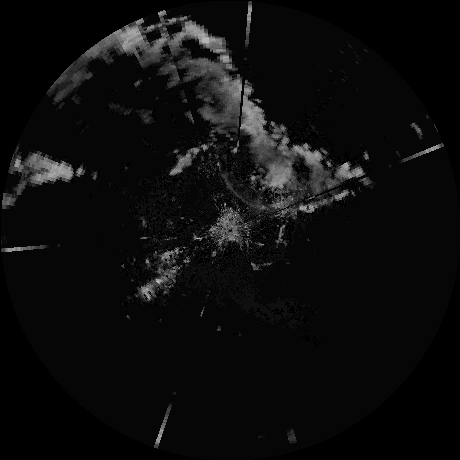frontgust: (219, 172, 269, 211)
